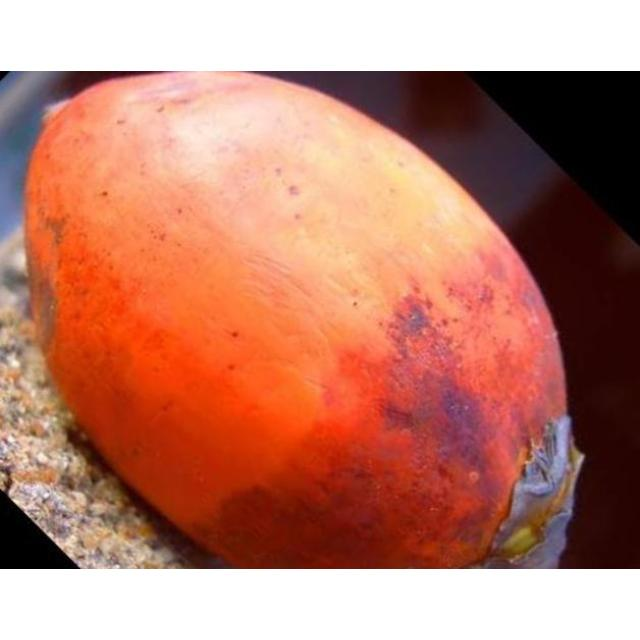good: (20, 71, 586, 568)
